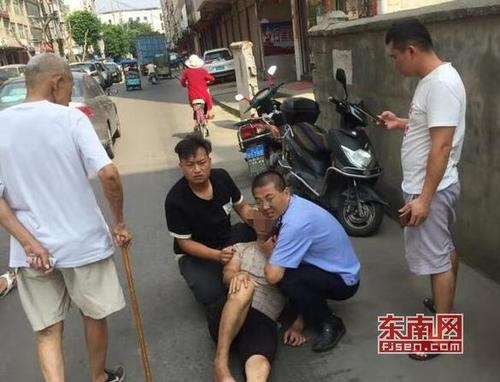falling: (199, 196, 299, 382)
